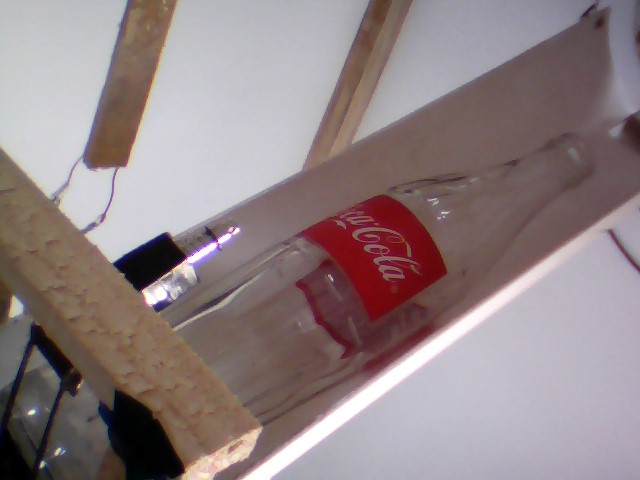vidrio: (167, 126, 598, 434)
